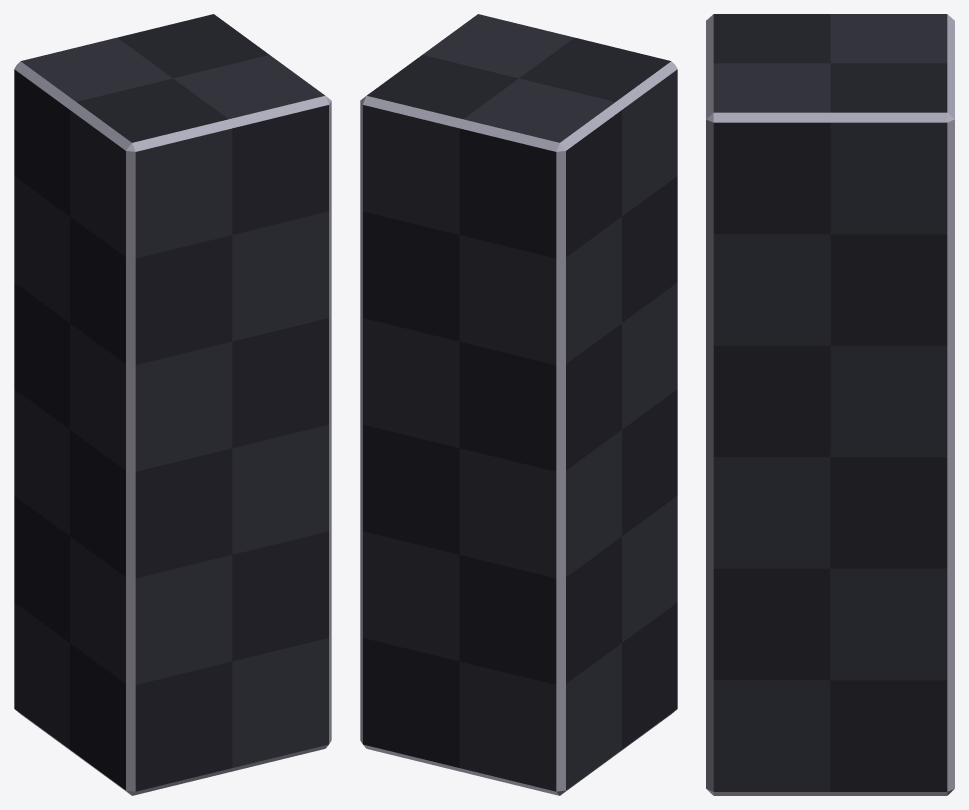
File: PMP-M-Ground-Main-0.66x0.66x2-V1.fbx
The picture shows the model from 3 angles, left to right: view 1: azimuth 30°, elevation 25°; view 2: azimuth 150°, elevation 25°; view 3: azimuth 270°, elevation 25°; orthographic projection. The views are drawn at different scales.
Parts seen in each view (by area): view 1: MONO-Terrain-A-0.66x0.66x2; view 2: MONO-Terrain-A-0.66x0.66x2; view 3: MONO-Terrain-A-0.66x0.66x2.
Part boxes in pixels (left/top/right/bottom): MONO-Terrain-A-0.66x0.66x2: left=14, top=14, right=331, bottom=795; MONO-Terrain-A-0.66x0.66x2: left=360, top=14, right=677, bottom=795; MONO-Terrain-A-0.66x0.66x2: left=706, top=14, right=954, bottom=795.
Bounding box in the file's own units: 66 × 200 × 66.
